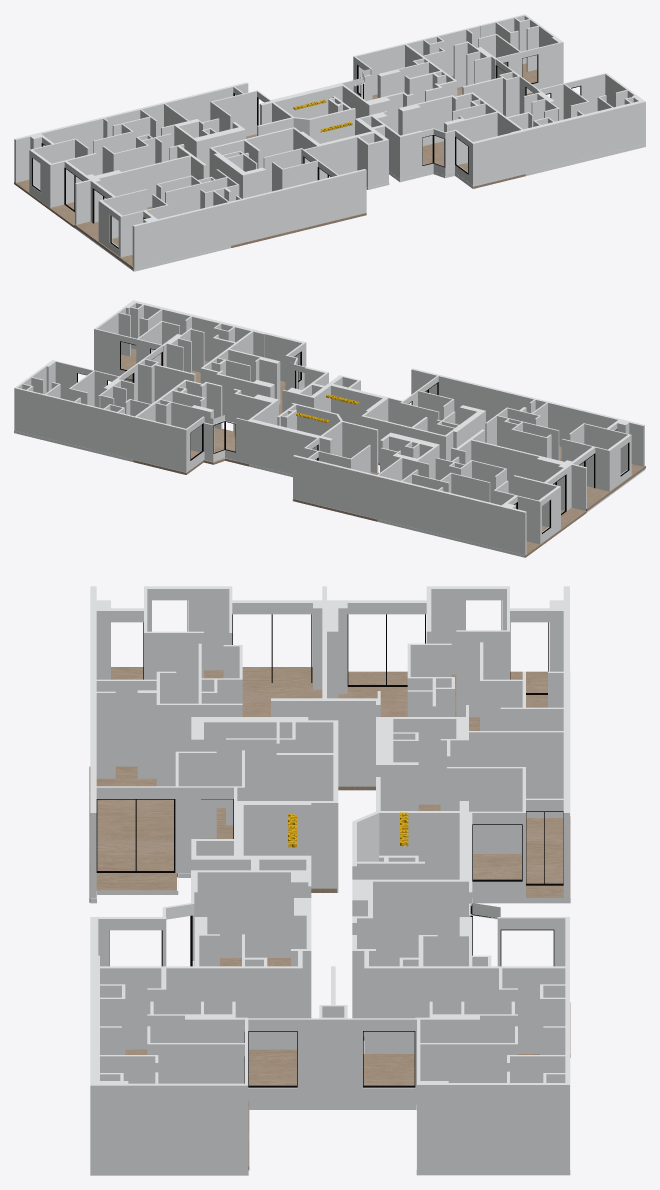
The model's file is planta-3.glb.
3 renders of one model, top to bottom at view 1: azimuth 30°, elevation 25°; view 2: azimuth 150°, elevation 25°; view 3: azimuth 270°, elevation 25°, orthographic. The views are drawn at different scales.
Visible parts, largest first — view 1: Component_624_5, tipo-8, tipo-2, tipo-3, tipo-1; view 2: Component_624_5, tipo-5, tipo-2, tipo-3, tipo-7; view 3: Component_624_5, tipo-1, tipo-4, tipo-2, tipo-3, tipo-7, tipo-6.
Part boxes in pixels (x1,y1,x2,y2): Component_624_5: (14,14,645,271); tipo-8: (422,141,525,188); tipo-2: (74,206,152,269); tipo-3: (14,179,74,228); tipo-1: (231,213,366,247); Component_624_5: (14,300,645,557); tipo-5: (133,428,248,474); tipo-2: (559,446,645,510); tipo-3: (508,492,586,557); tipo-7: (95,348,208,383); Component_624_5: (90,586,570,1175); tipo-1: (89,766,336,902); tipo-4: (418,804,570,897); tipo-2: (111,667,322,716); tipo-3: (338,671,547,790); tipo-7: (125,1049,296,1170); tipo-6: (363,1054,539,1085).
Size of what is drawn, in the model's own units: 37.52 by 3.55 by 15.26.
Materials: 12 (10 with a texture image).
